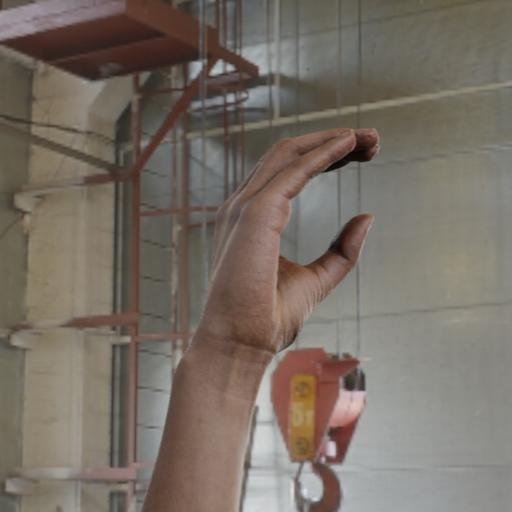C: (172, 97, 400, 361)
